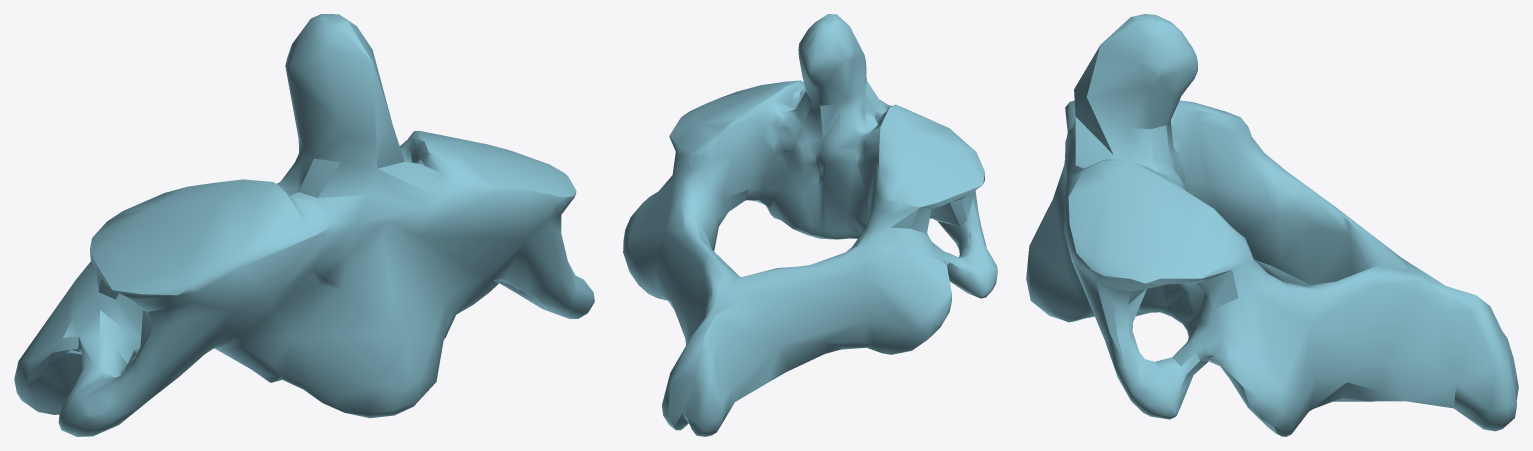
File: axis-c2.glb
3 renders of one model, left to right at view 1: azimuth 30°, elevation 25°; view 2: azimuth 150°, elevation 25°; view 3: azimuth 270°, elevation 25°, orthographic. The views are drawn at different scales.
Parts seen in each view (by area): view 1: grp1; view 2: grp1; view 3: grp1.
Boxes of the visible parts, x1,y1,x2,y2 form: grp1: [14, 14, 594, 436]; grp1: [623, 14, 997, 436]; grp1: [1026, 14, 1518, 436].
Size of the model in its own units: 0.0505 by 0.0452 by 0.0499.
